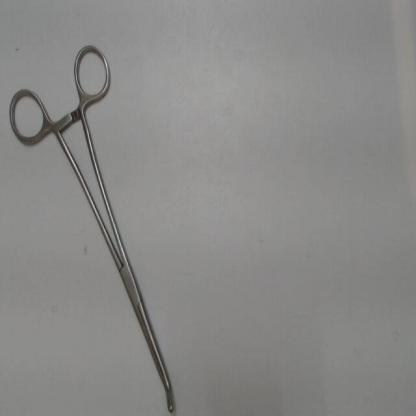Lahey Forceps: (5, 31, 182, 414)
